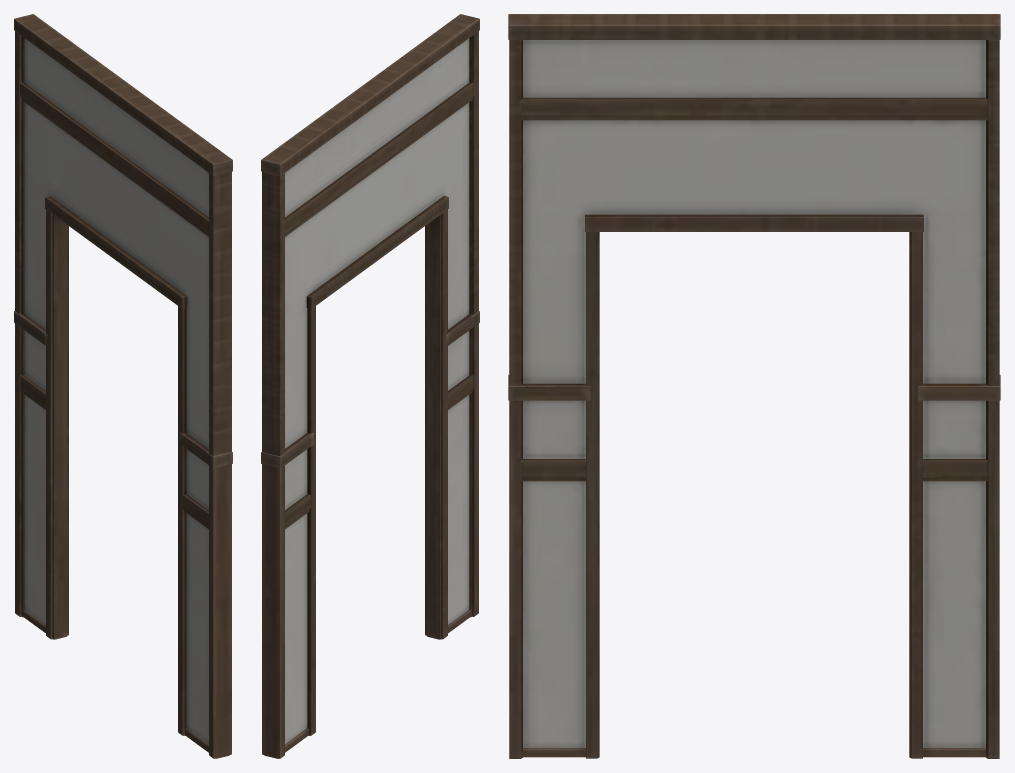
The model's file is Architecture_JapaneseStyle_WallGate_635d4e.glb.
The picture shows the model from 3 angles, left to right: view 1: azimuth 30°, elevation 25°; view 2: azimuth 150°, elevation 25°; view 3: azimuth 270°, elevation 25°; orthographic projection. The views are drawn at different scales.
Size of the model in its own units: 0.2305 by 6.61 by 4.02.
Materials: 1 (1 with a texture image).
